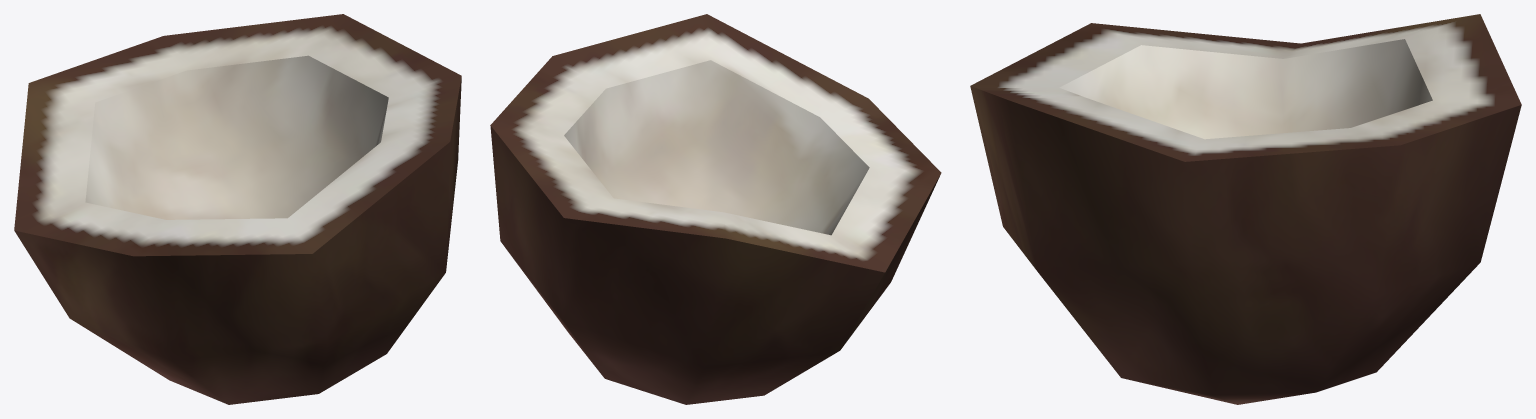
The model's file is coconut_half01_mesh.fbx.
The picture shows the model from 3 angles, left to right: view 1: azimuth 30°, elevation 25°; view 2: azimuth 150°, elevation 25°; view 3: azimuth 270°, elevation 25°; orthographic projection. The views are drawn at different scales.
Visible parts, largest first — view 1: coconut_half01_mesh; view 2: coconut_half01_mesh; view 3: coconut_half01_mesh.
Boxes of the visible parts, left/top/right/bottom form: coconut_half01_mesh: left=14, top=14, right=461, bottom=404; coconut_half01_mesh: left=490, top=14, right=941, bottom=404; coconut_half01_mesh: left=970, top=14, right=1521, bottom=404.
Size of the model in its own units: 0.3729 by 0.2602 by 0.3802.
